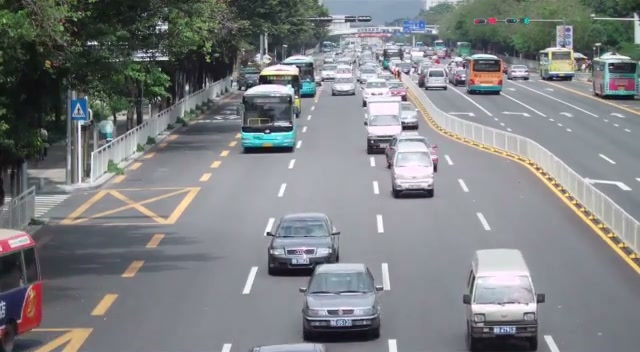bus: (240, 84, 297, 153), (259, 65, 303, 115), (592, 54, 639, 99), (466, 54, 504, 94), (282, 55, 316, 96), (539, 47, 576, 81), (331, 65, 356, 96)
car: (462, 248, 545, 351), (298, 262, 384, 341), (0, 227, 45, 351), (265, 212, 342, 276), (386, 137, 437, 198), (365, 114, 403, 154), (253, 342, 326, 352), (331, 67, 356, 96), (398, 101, 419, 131), (423, 67, 448, 91), (508, 64, 530, 81)
truck: (592, 54, 639, 99), (539, 47, 575, 81)
